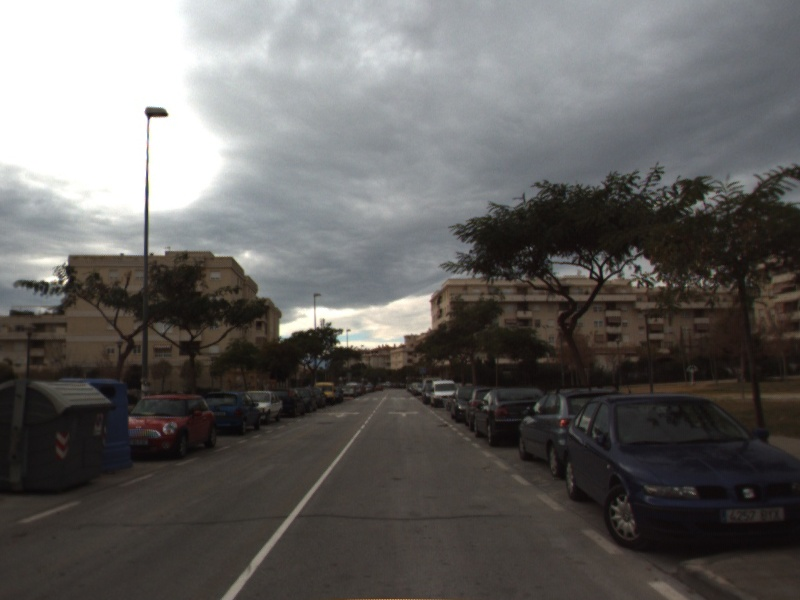LEFT_RIGHT: (385, 408, 422, 419)
